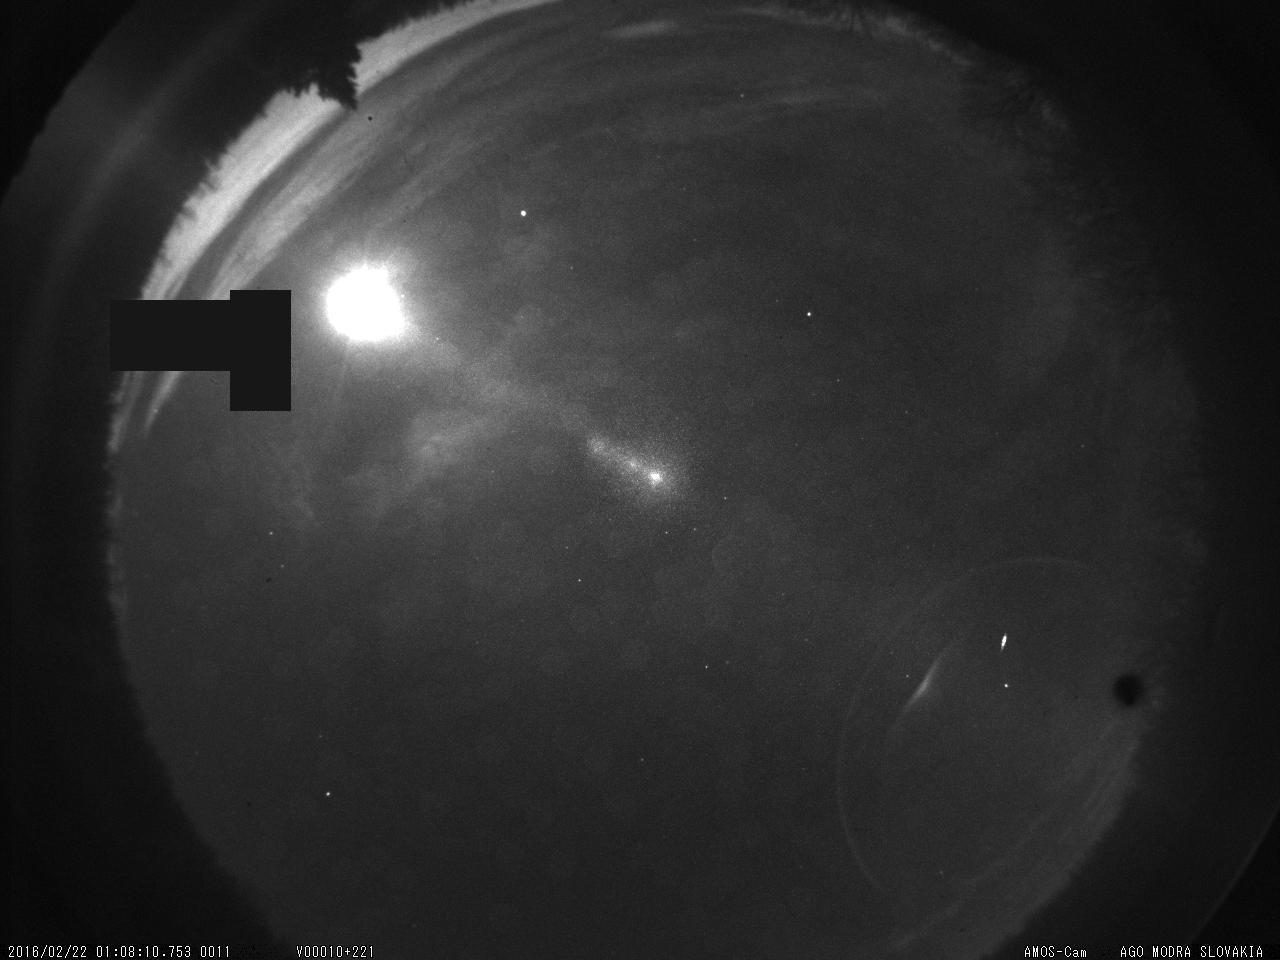meteor: (968, 608, 1052, 671)
